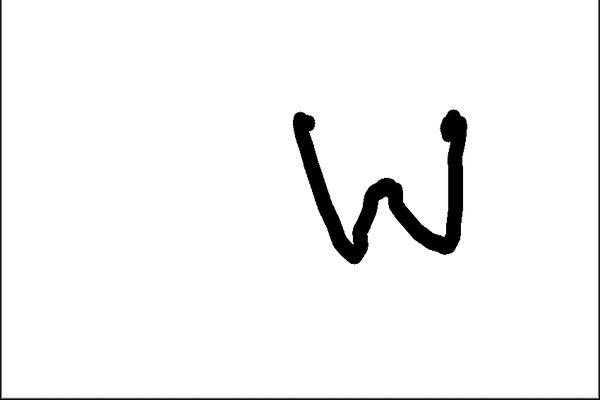w: (239, 74, 514, 271)
